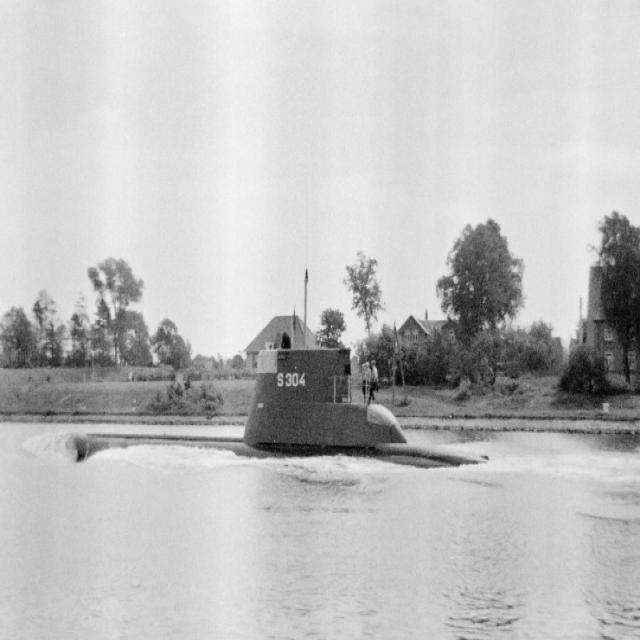submarine: (68, 349, 488, 470)
